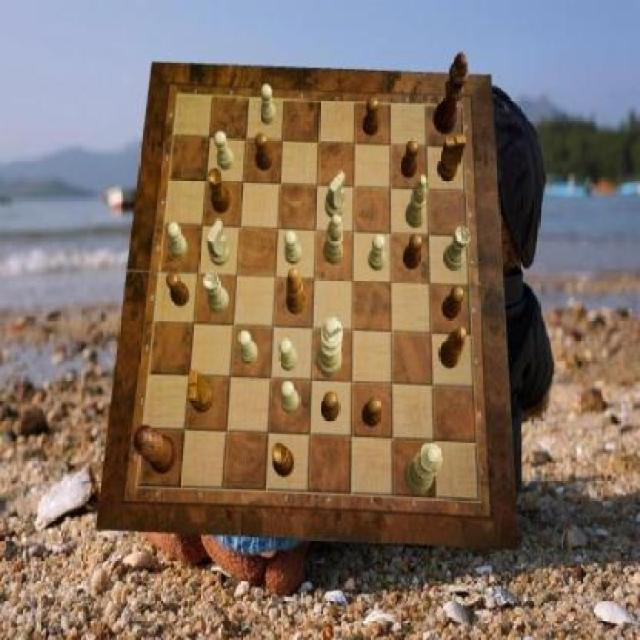bishop: (439, 328, 466, 369), (288, 270, 308, 316)
black-bishop: (432, 54, 468, 135)
black-king: (437, 136, 466, 182), (189, 371, 214, 413)
black-knight: (166, 272, 190, 307), (441, 285, 464, 319), (403, 234, 423, 270), (255, 132, 273, 170), (363, 97, 380, 137), (402, 140, 419, 178), (363, 397, 383, 426), (322, 391, 341, 420)
black-pawn: (134, 426, 178, 474)
black-queen: (208, 168, 230, 214), (272, 442, 295, 476)
black-rook: (406, 176, 429, 230), (324, 213, 344, 264)
white-bishop: (316, 318, 342, 378)
white-king: (206, 219, 230, 266), (326, 172, 346, 220)
white-knight: (214, 131, 234, 169), (168, 222, 188, 259), (237, 330, 258, 364), (260, 83, 276, 125), (278, 340, 298, 372), (280, 381, 299, 414), (368, 236, 385, 272), (286, 229, 303, 264)
white-pawn: (405, 441, 442, 494)
white-queen: (443, 228, 470, 272), (203, 271, 229, 313)
